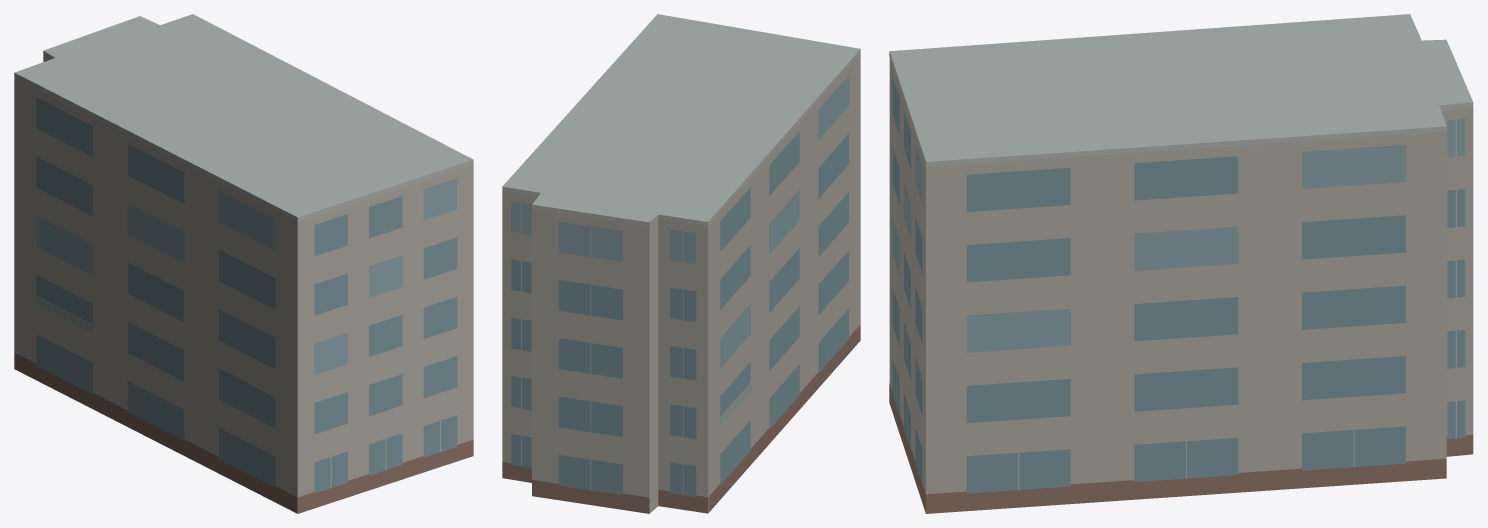
Rendered from survey-upis-32975231.glb.
The picture shows the model from 3 angles, left to right: view 1: azimuth 30°, elevation 25°; view 2: azimuth 150°, elevation 25°; view 3: azimuth 270°, elevation 25°; orthographic projection. The views are drawn at different scales.
Parts seen in each view (by area): view 1: survey-upis-32975231.tmp; view 2: survey-upis-32975231.tmp; view 3: survey-upis-32975231.tmp.
Boxes of the visible parts, <box> form: survey-upis-32975231.tmp: <box>14,14,473,513</box>; survey-upis-32975231.tmp: <box>502,14,860,513</box>; survey-upis-32975231.tmp: <box>889,14,1473,513</box>.
Bounding box in the file's own units: 13.75 × 15.25 × 22.94.
